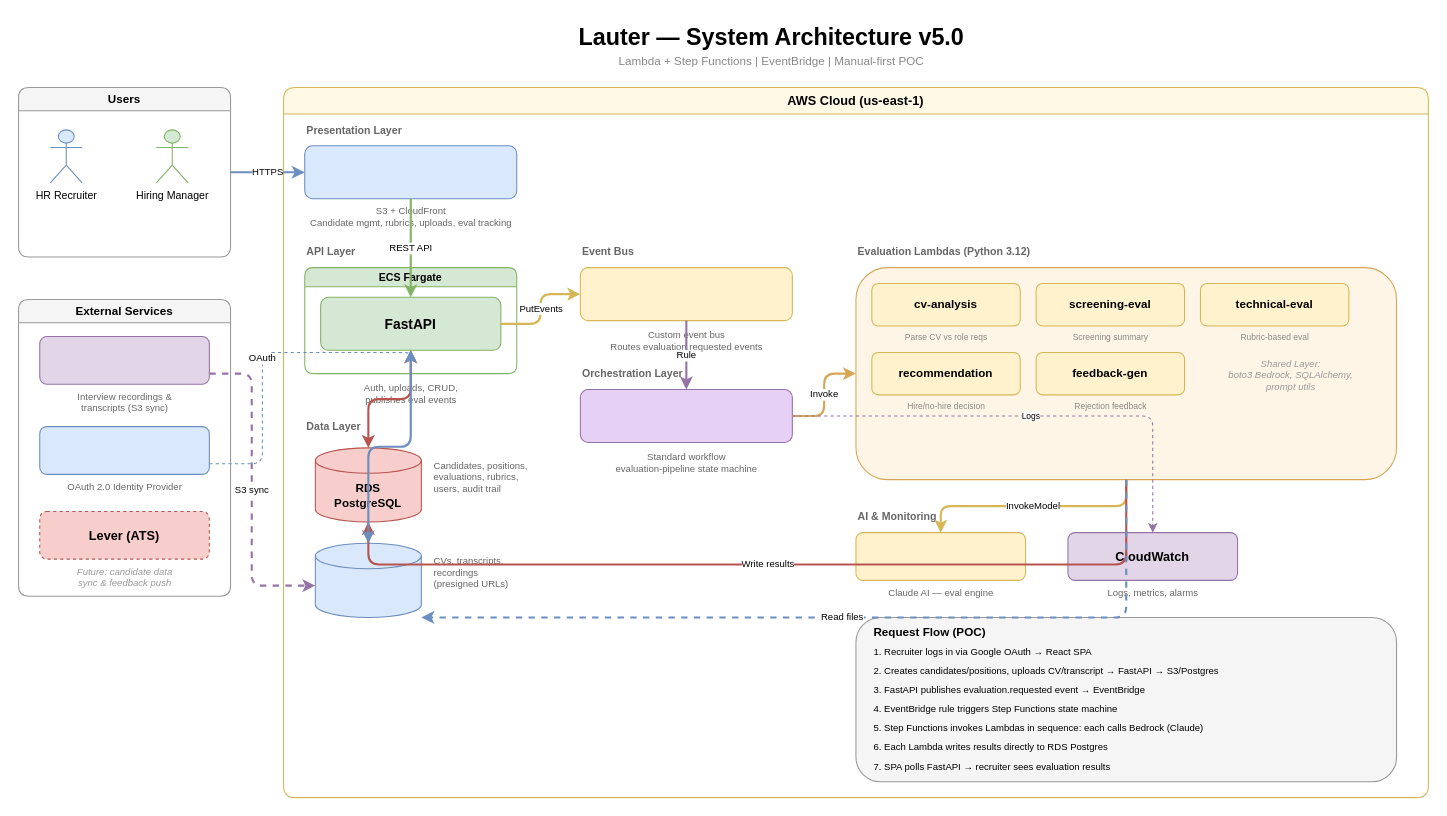
Some shapes in this 1447 by 816 pixel diagram are drawn without their labels. Here are the shapes that lost their labels. From the top down, the centre of each, then its label:
At point (410, 172): "React SPA".
At point (685, 294): "Amazon EventBridge".
At point (124, 359): "Barley".
At point (685, 415): "AWS Step Functions".
At point (124, 450): "Google Workspace".
At point (940, 556): "Amazon Bedrock".
At point (367, 579): "S3 Files".
